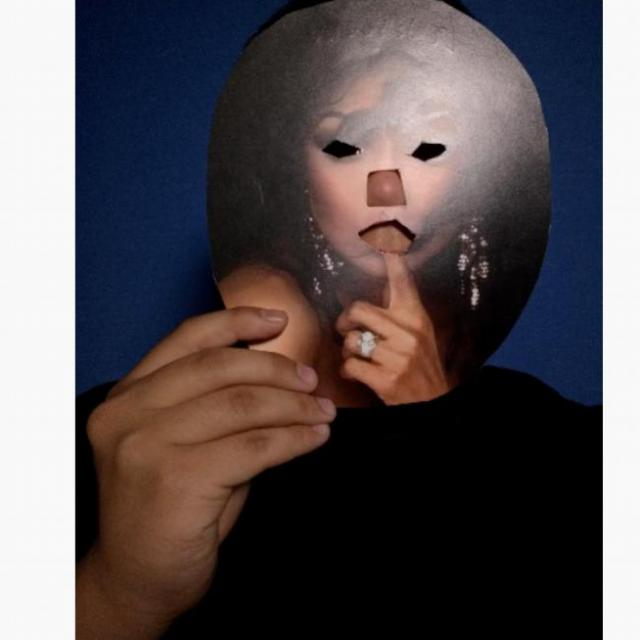mask: (200, 0, 553, 413)
